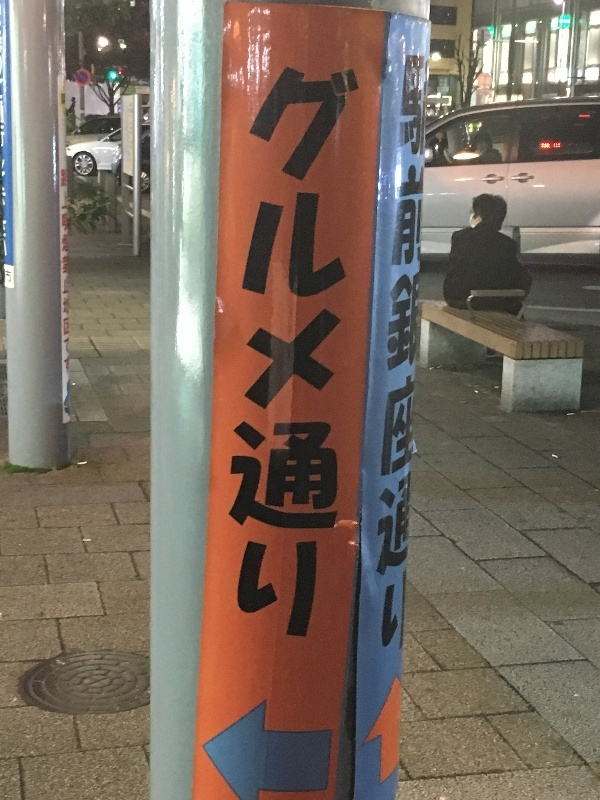text: (257, 49, 272, 670), (273, 49, 288, 670), (289, 49, 304, 670), (305, 49, 320, 670), (321, 49, 336, 670), (337, 49, 352, 670), (353, 49, 366, 670), (401, 160, 416, 658), (245, 49, 256, 670), (417, 160, 430, 658), (1, 2, 16, 260), (394, 160, 400, 658), (417, 46, 432, 174), (404, 46, 416, 174), (65, 167, 72, 376), (60, 167, 64, 376), (433, 46, 435, 174), (5, 266, 16, 287)
